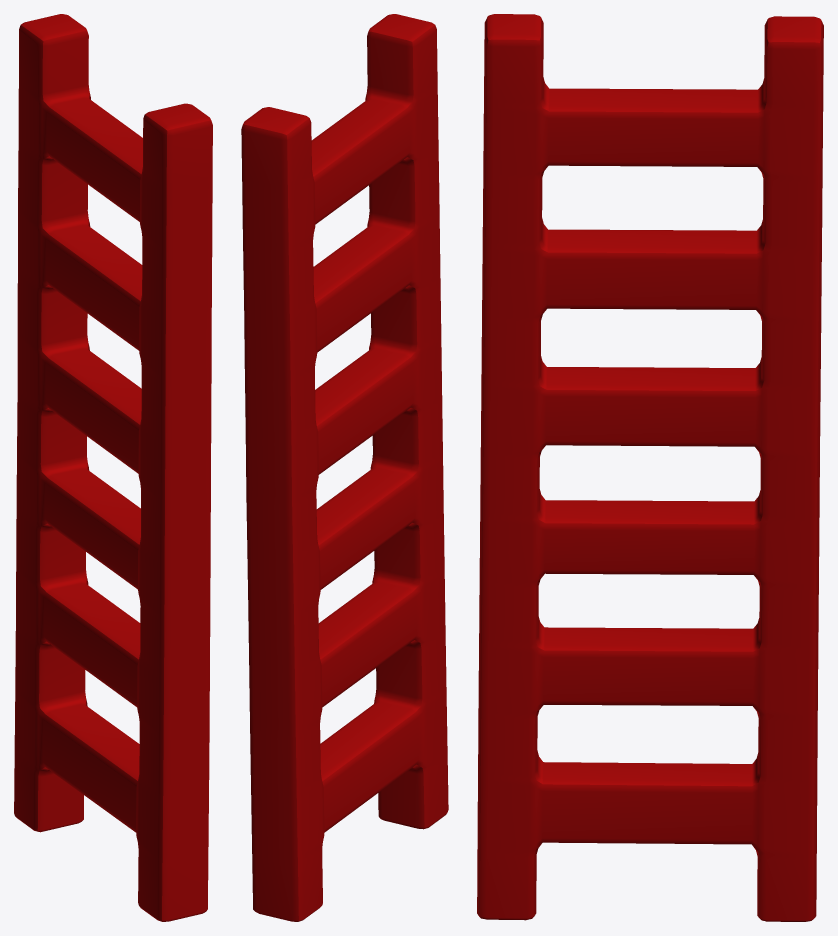
The model's file is S1_L_Ladder01.fbx.
The picture shows the model from 3 angles, left to right: view 1: azimuth 30°, elevation 25°; view 2: azimuth 150°, elevation 25°; view 3: azimuth 270°, elevation 25°; orthographic projection. The views are drawn at different scales.
Parts seen in each view (by area): view 1: S1_Ladder01; view 2: S1_Ladder01; view 3: S1_Ladder01.
Boxes of the visible parts, <box> form: S1_Ladder01: <box>14,14,212,921</box>; S1_Ladder01: <box>241,14,448,921</box>; S1_Ladder01: <box>477,14,823,921</box>.
Bounding box in the file's own units: 86.97 × 1115 × 393.
